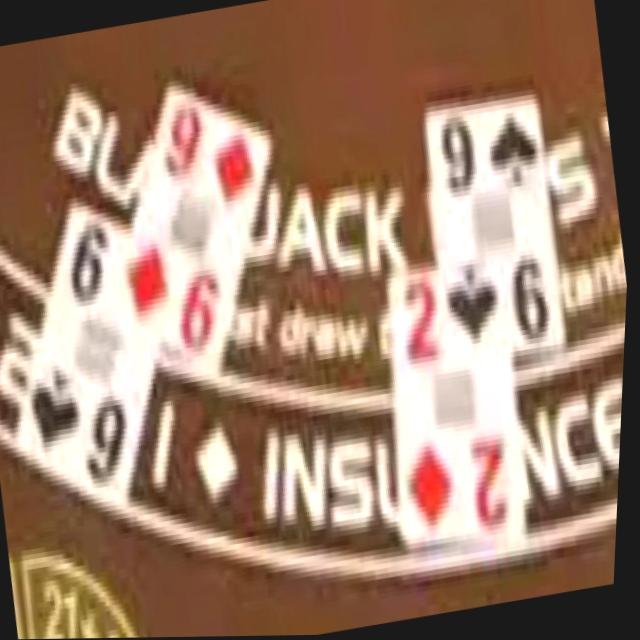Card-2: (394, 270, 527, 539)
Card-6: (20, 200, 158, 512)
Card-9: (115, 79, 274, 378), (426, 94, 569, 348)
